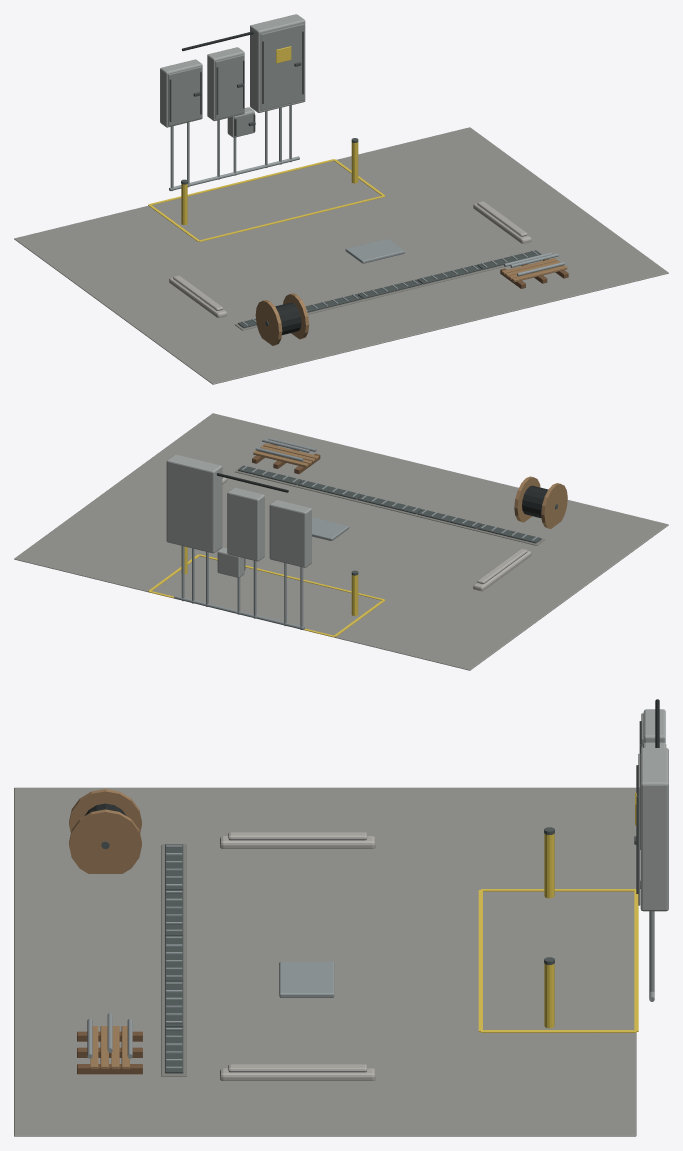
Rendered from electrical-area-mobile.glb.
3 renders of one model, top to bottom at view 1: azimuth 30°, elevation 25°; view 2: azimuth 150°, elevation 25°; view 3: azimuth 270°, elevation 25°, orthographic. The views are drawn at different scales.
Parts seen in each view (by area): view 1: SY_SLAB, EP_C_DOOR, EP_C, EP_A_DOOR, EP_B_DOOR, SY_REEL_L_FLANGE, EP_A, EP_B, SY_UTILITY_COVER, SY_REEL_CABLE; view 2: SY_SLAB, EP_C, EP_A, EP_B, SY_REEL_L_FLANGE, EP_JB, SY_REEL_CABLE, SY_UTILITY_COVER, EP_CONDUIT_BUS, SY_REEL_R_FLANGE, SY_STOP_L_BASE, SY_STOP_L_TOP (+5 smaller); view 3: SY_SLAB, EP_C, SY_REEL_R_FLANGE, SY_UTILITY_COVER, SY_STOP_L_BASE, SY_STOP_R_BASE, SY_REEL_L_FLANGE, SY_STOP_R_TOP, SY_STOP_L_TOP, SY_DRAIN_4_GRATE, SY_DRAIN_2_GRATE, SY_DRAIN_0_GRATE (+7 smaller).
Part boxes in pixels (<box>): SY_SLAB: <box>14,127,668,384</box>; EP_C_DOOR: <box>260,24,304,110</box>; EP_C: <box>250,14,305,112</box>; EP_A_DOOR: <box>168,66,201,126</box>; EP_B_DOOR: <box>215,54,244,119</box>; SY_REEL_L_FLANGE: <box>255,300,282,345</box>; EP_A: <box>160,59,202,127</box>; EP_B: <box>207,47,244,121</box>; SY_UTILITY_COVER: <box>345,238,404,263</box>; SY_REEL_CABLE: <box>275,302,301,335</box>; SY_SLAB: <box>14,413,668,670</box>; EP_C: <box>166,454,222,553</box>; EP_A: <box>269,499,311,567</box>; EP_B: <box>227,487,264,561</box>; SY_REEL_L_FLANGE: <box>541,483,567,528</box>; EP_JB: <box>217,547,244,577</box>; SY_REEL_CABLE: <box>522,485,548,518</box>; SY_UTILITY_COVER: <box>312,517,349,540</box>; EP_CONDUIT_BUS: <box>174,595,304,629</box>; SY_REEL_R_FLANGE: <box>514,476,540,522</box>; SY_STOP_L_BASE: <box>473,550,531,591</box>; SY_STOP_L_TOP: <box>477,548,527,583</box>; SY_SLAB: <box>14,787,636,1136</box>; EP_C: <box>640,748,668,911</box>; SY_REEL_R_FLANGE: <box>69,809,141,873</box>; SY_UTILITY_COVER: <box>279,961,334,997</box>; SY_STOP_L_BASE: <box>220,836,375,848</box>; SY_STOP_R_BASE: <box>220,1068,375,1080</box>; SY_REEL_L_FLANGE: <box>69,789,141,833</box>; SY_STOP_R_TOP: <box>228,1064,367,1072</box>; SY_STOP_L_TOP: <box>228,832,367,840</box>; SY_DRAIN_4_GRATE: <box>165,1027,183,1073</box>; SY_DRAIN_2_GRATE: <box>165,935,183,981</box>; SY_DRAIN_0_GRATE: <box>165,844,183,889</box>.
Size of what is drawn, in the model's own units: 9 by 2.79 by 7.16.
